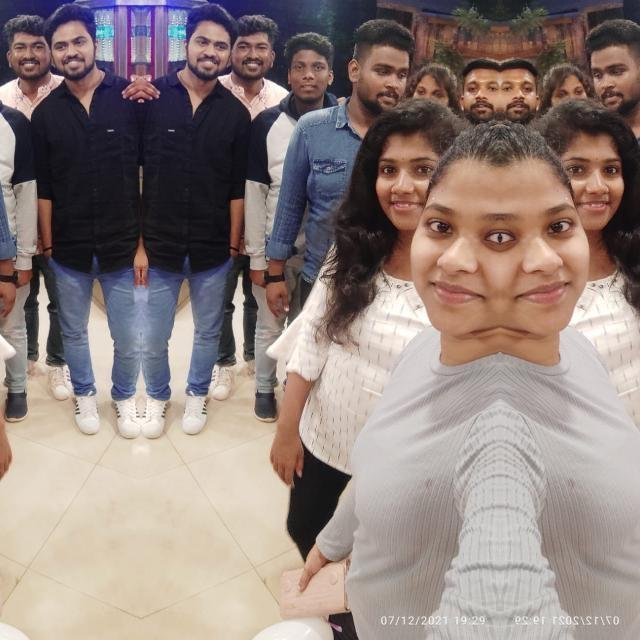person: (292, 96, 440, 482), (414, 128, 500, 640), (140, 4, 238, 448), (42, 4, 140, 448), (500, 128, 584, 640), (559, 96, 640, 481), (278, 26, 329, 108), (459, 54, 499, 136), (500, 54, 540, 136), (0, 26, 1, 108)
